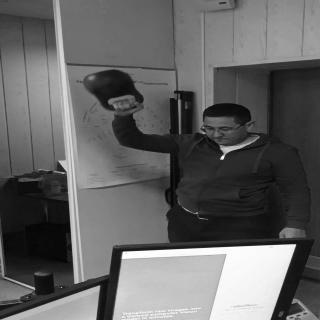kettlebell: (84, 70, 147, 112)
